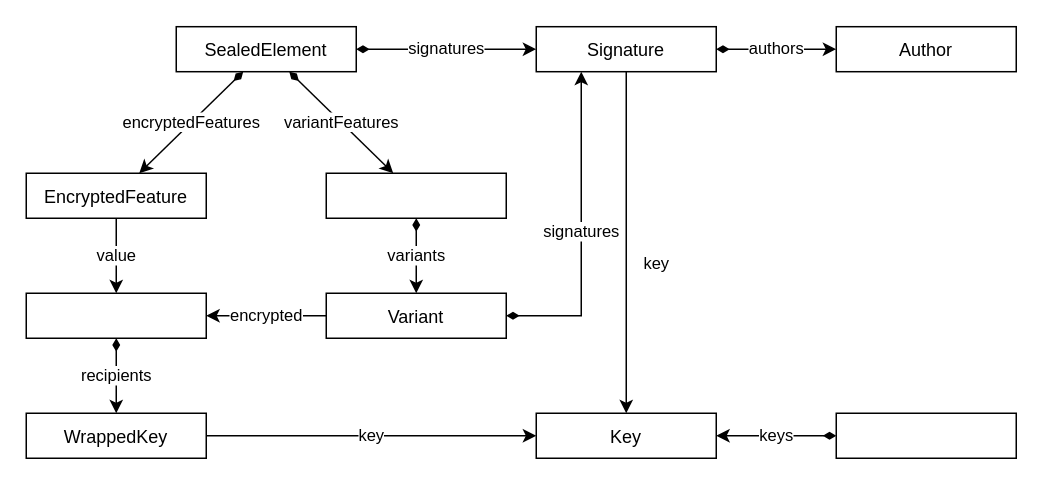
This 1043x485 diagram has some shape labels left out. Each missing label, with the centre of its shape:
EncryptedValue: [115,315]
Keyring: [925,435]
VariantFeature: [415,195]
